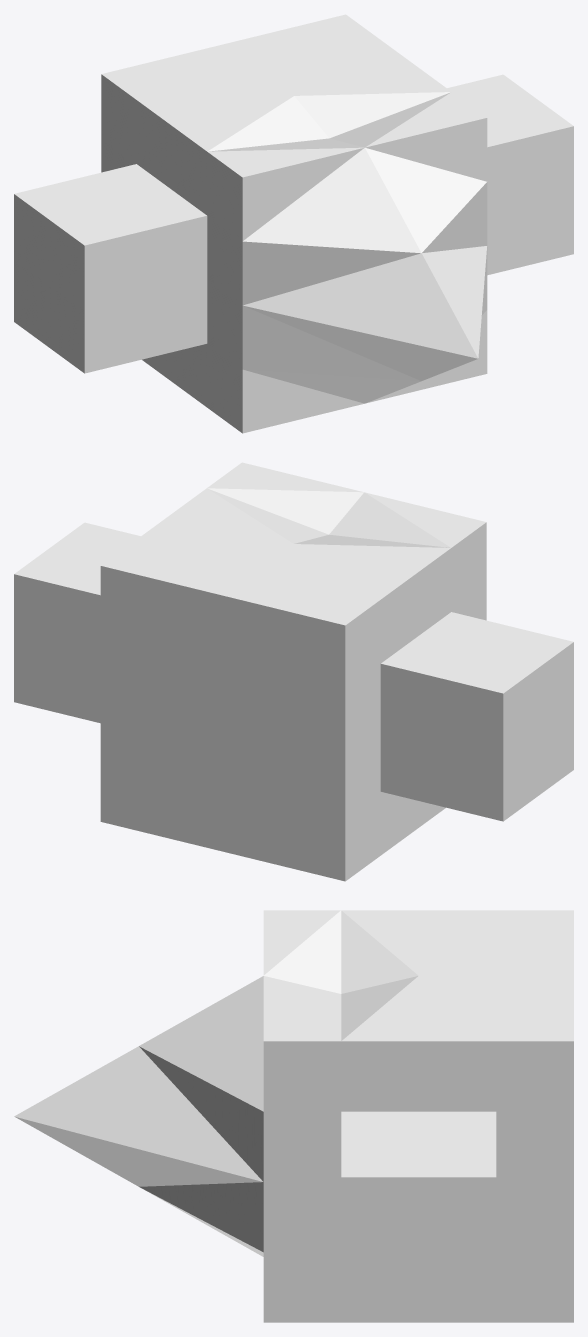
The model's file is Core.obj.
3 views of the same model, one above another, from view 1: azimuth 30°, elevation 25°; view 2: azimuth 150°, elevation 25°; view 3: azimuth 270°, elevation 25° (orthographic). The views are drawn at different scales.
Parts seen in each view (by area): view 1: 立方体; view 2: 立方体; view 3: 立方体.
Boxes of the visible parts, bbox=[...] form: 立方体: bbox=[14, 14, 573, 433]; 立方体: bbox=[14, 462, 573, 881]; 立方体: bbox=[14, 910, 573, 1322].
Bounding box in the file's own units: 2 × 1 × 1.8.
1 material, 1 textured.
